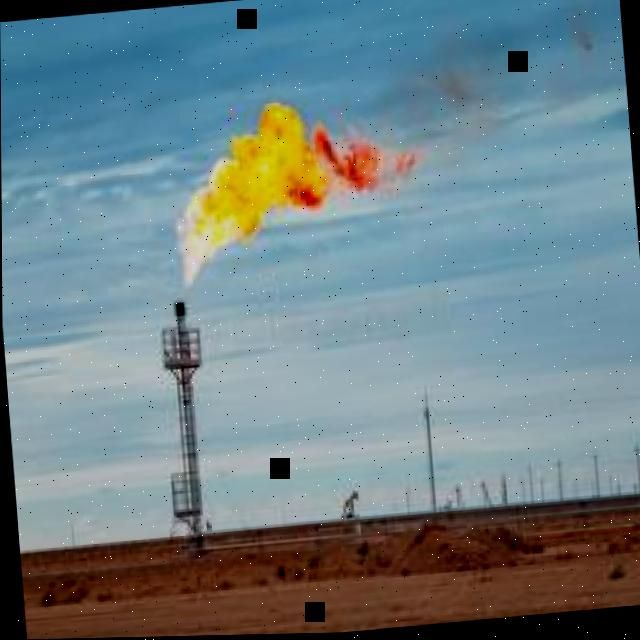fire: (175, 103, 421, 289)
